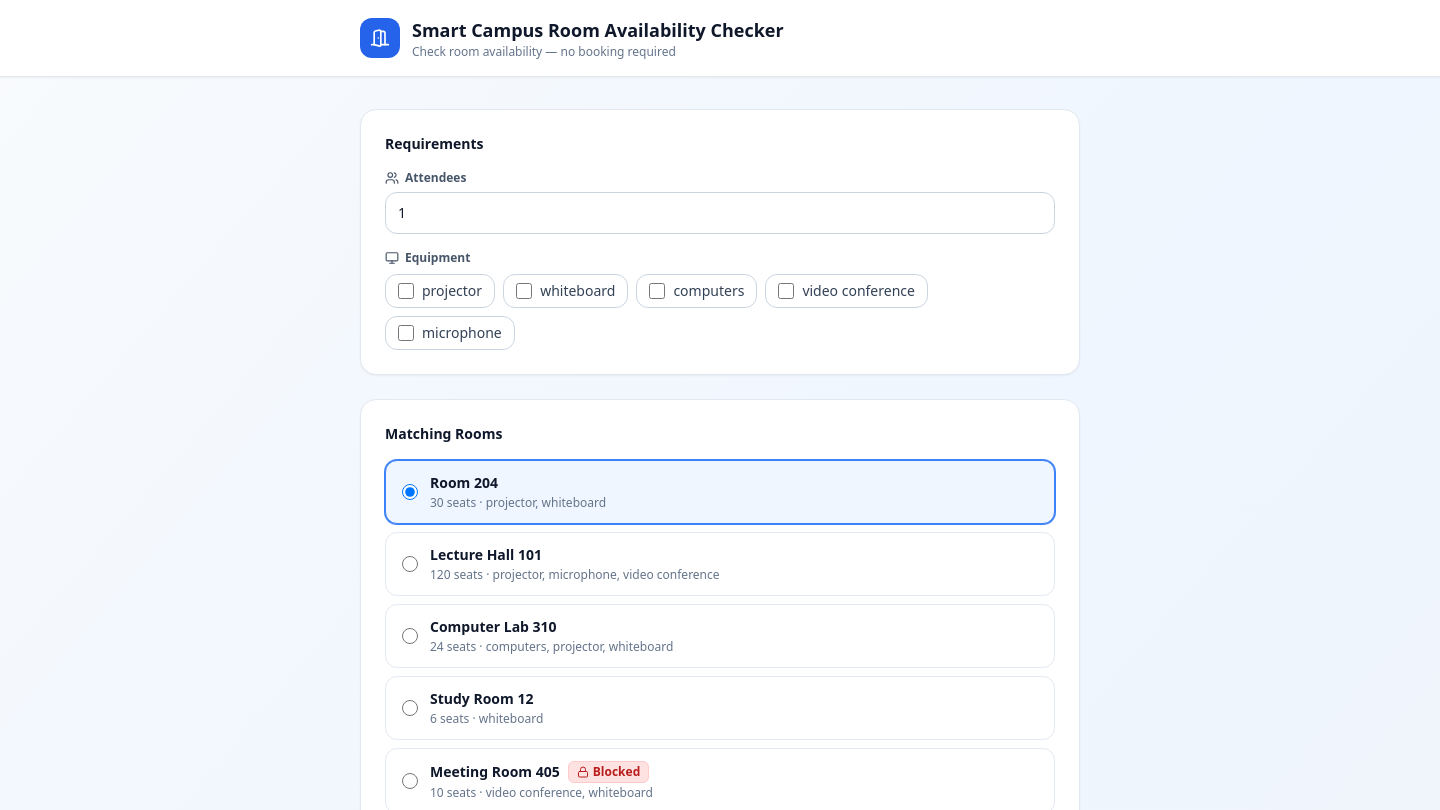
Test: App UI — room catalog and filtering › 20 attendees + computers shows only Computer Lab 310
This screenshot has width=1440, height=810.
Type "20" into the number field labelled "Attendees" at [720, 213], box left=385, top=192, right=1055, bottom=234
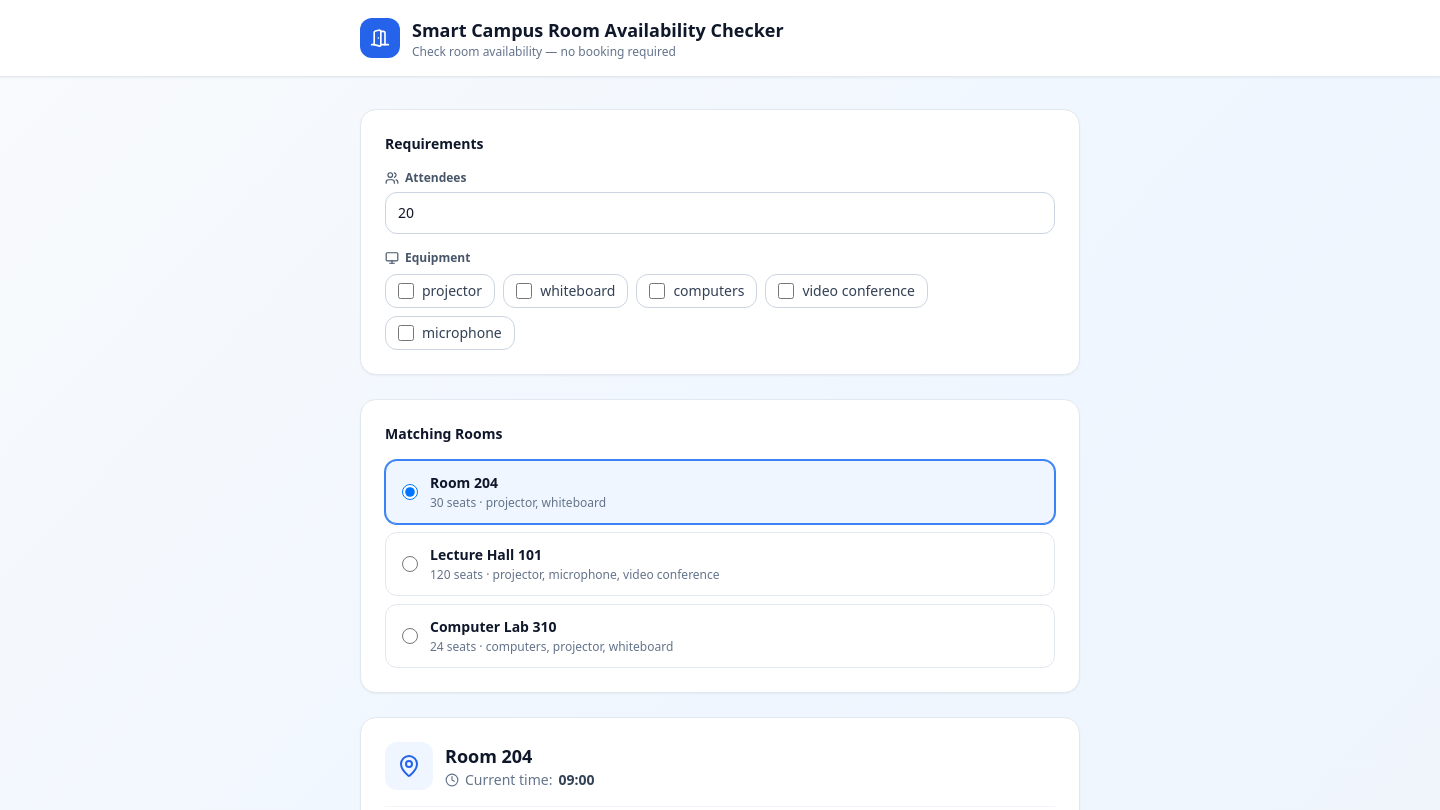
Click the checkbox labelled "computers" at [657, 291], box left=649, top=283, right=665, bottom=299
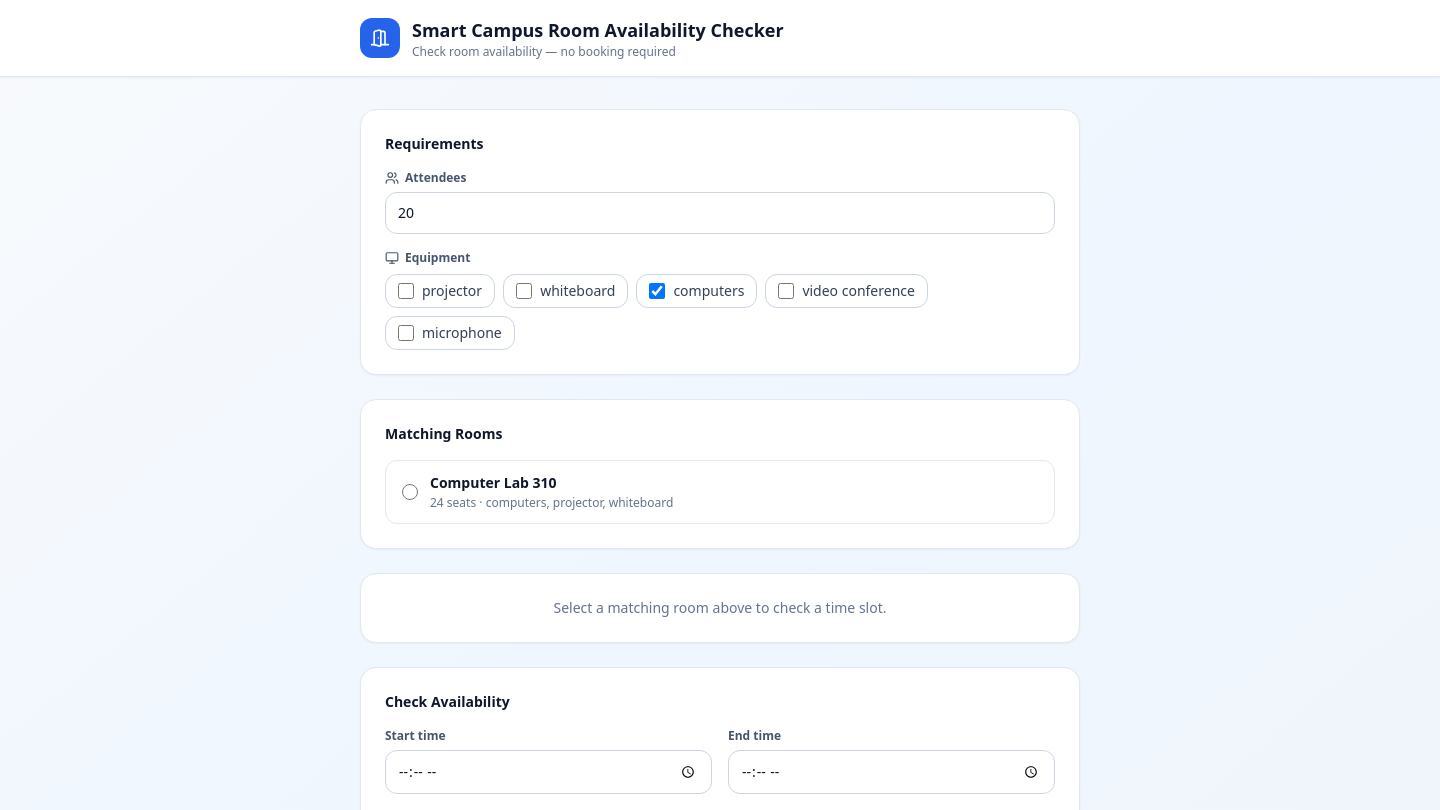
expect the number of radio buttons is 1: met, box left=402, top=484, right=418, bottom=500
